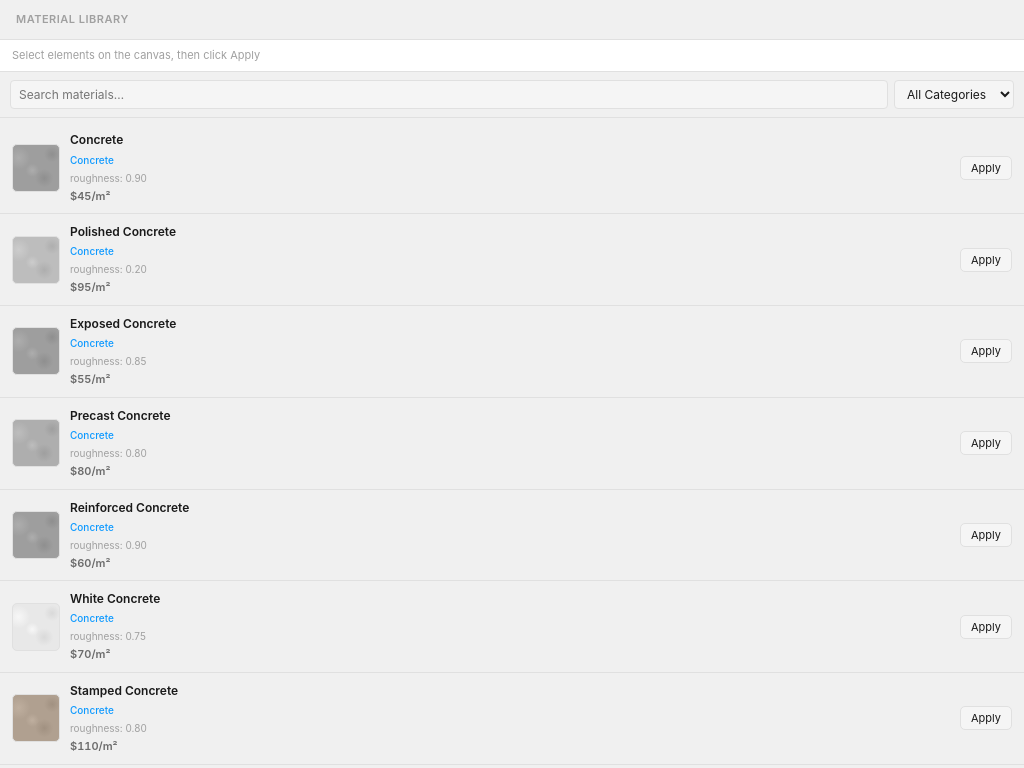
Scenario: T-MAT-001: MaterialLibrary › hides non-matching materials when searching
Type "zzz_nomatch" into the field with placeholder "Search materials…".
click(449, 95); type("zzz_nomatch")  # box top-left (10, 80), bottom-right (888, 109)
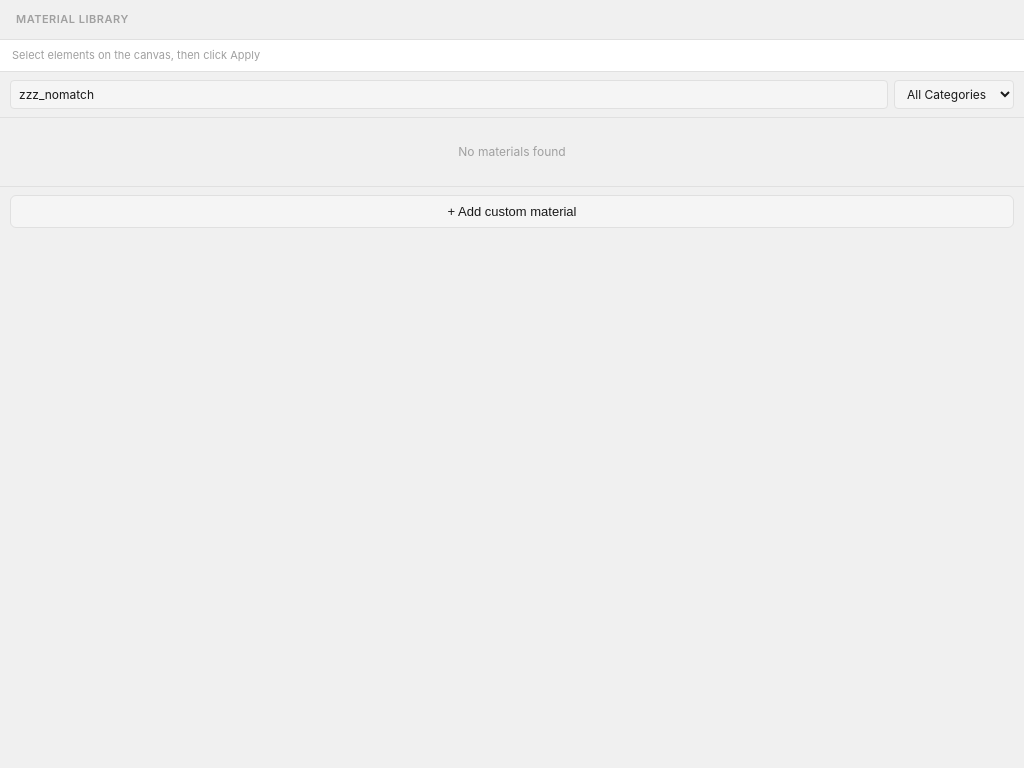
Expected: the text "No materials found" is shown, top-left (458, 144), bottom-right (566, 159)
